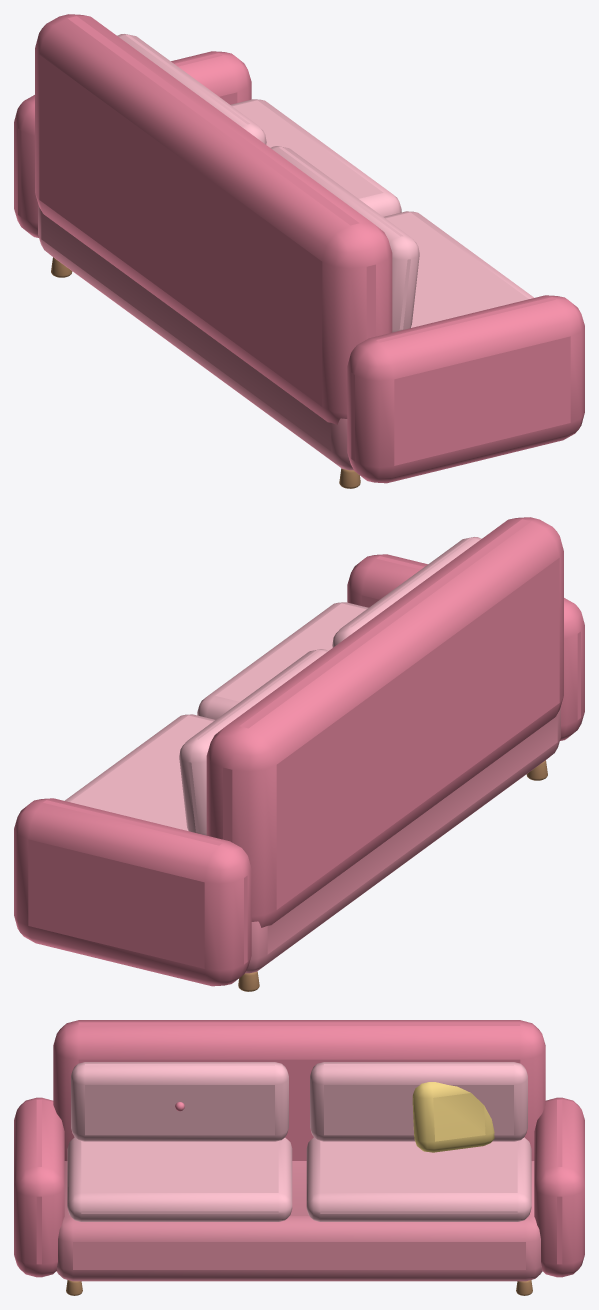
Rendered from sofa.glb.
3 views of the same model, one above another, from view 1: azimuth 30°, elevation 25°; view 2: azimuth 150°, elevation 25°; view 3: azimuth 270°, elevation 25° (orthographic). The views are drawn at different scales.
Parts seen in each view (by area): view 1: cf08aa4, cffc0cf, base, cb88a62; view 2: cf08aa4, cffc0cf, base, cb88a62; view 3: cffc0cf, cf08aa4, base, pillow, cb88a62.
Part boxes in pixels (left/top/right/bottom): cf08aa4: left=14, top=14, right=584, bottom=483; cffc0cf: left=117, top=34, right=534, bottom=332; base: left=38, top=204, right=353, bottom=470; cb88a62: left=51, top=257, right=360, bottom=488; cf08aa4: left=14, top=517, right=584, bottom=986; cffc0cf: left=64, top=537, right=481, bottom=835; base: left=245, top=707, right=560, bottom=973; cb88a62: left=238, top=760, right=547, bottom=991; cffc0cf: left=67, top=1062, right=531, bottom=1221; cf08aa4: left=14, top=1020, right=584, bottom=1277; base: left=56, top=1161, right=542, bottom=1281; pillow: left=412, top=1082, right=494, bottom=1152; cb88a62: left=66, top=1280, right=532, bottom=1295.
Size of the model in its own units: 1.49 by 1.58 by 4.06.
